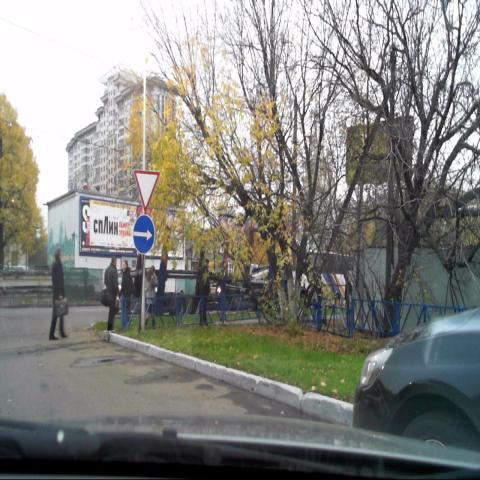4_1_2_1: (133, 217, 155, 253)
